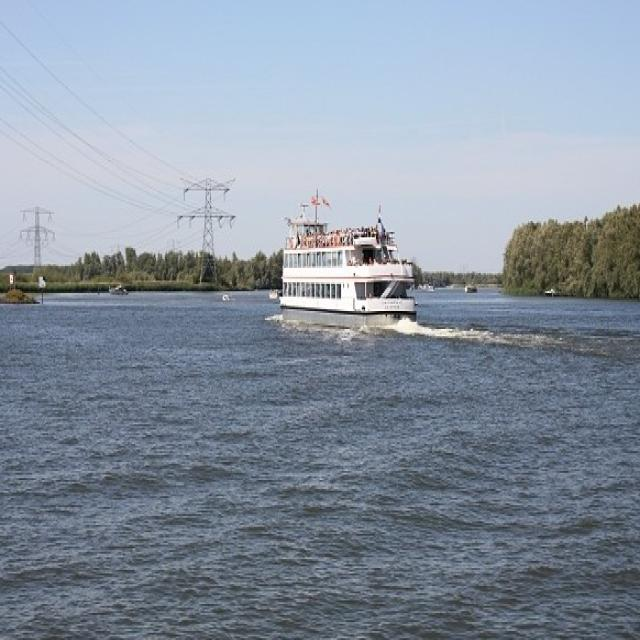houseboat: (267, 204, 428, 320)
